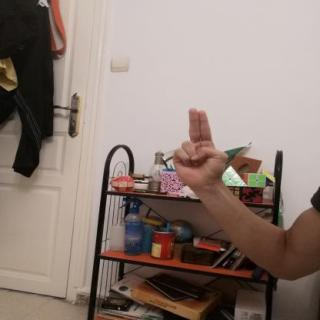TA: (166, 103, 237, 196)
